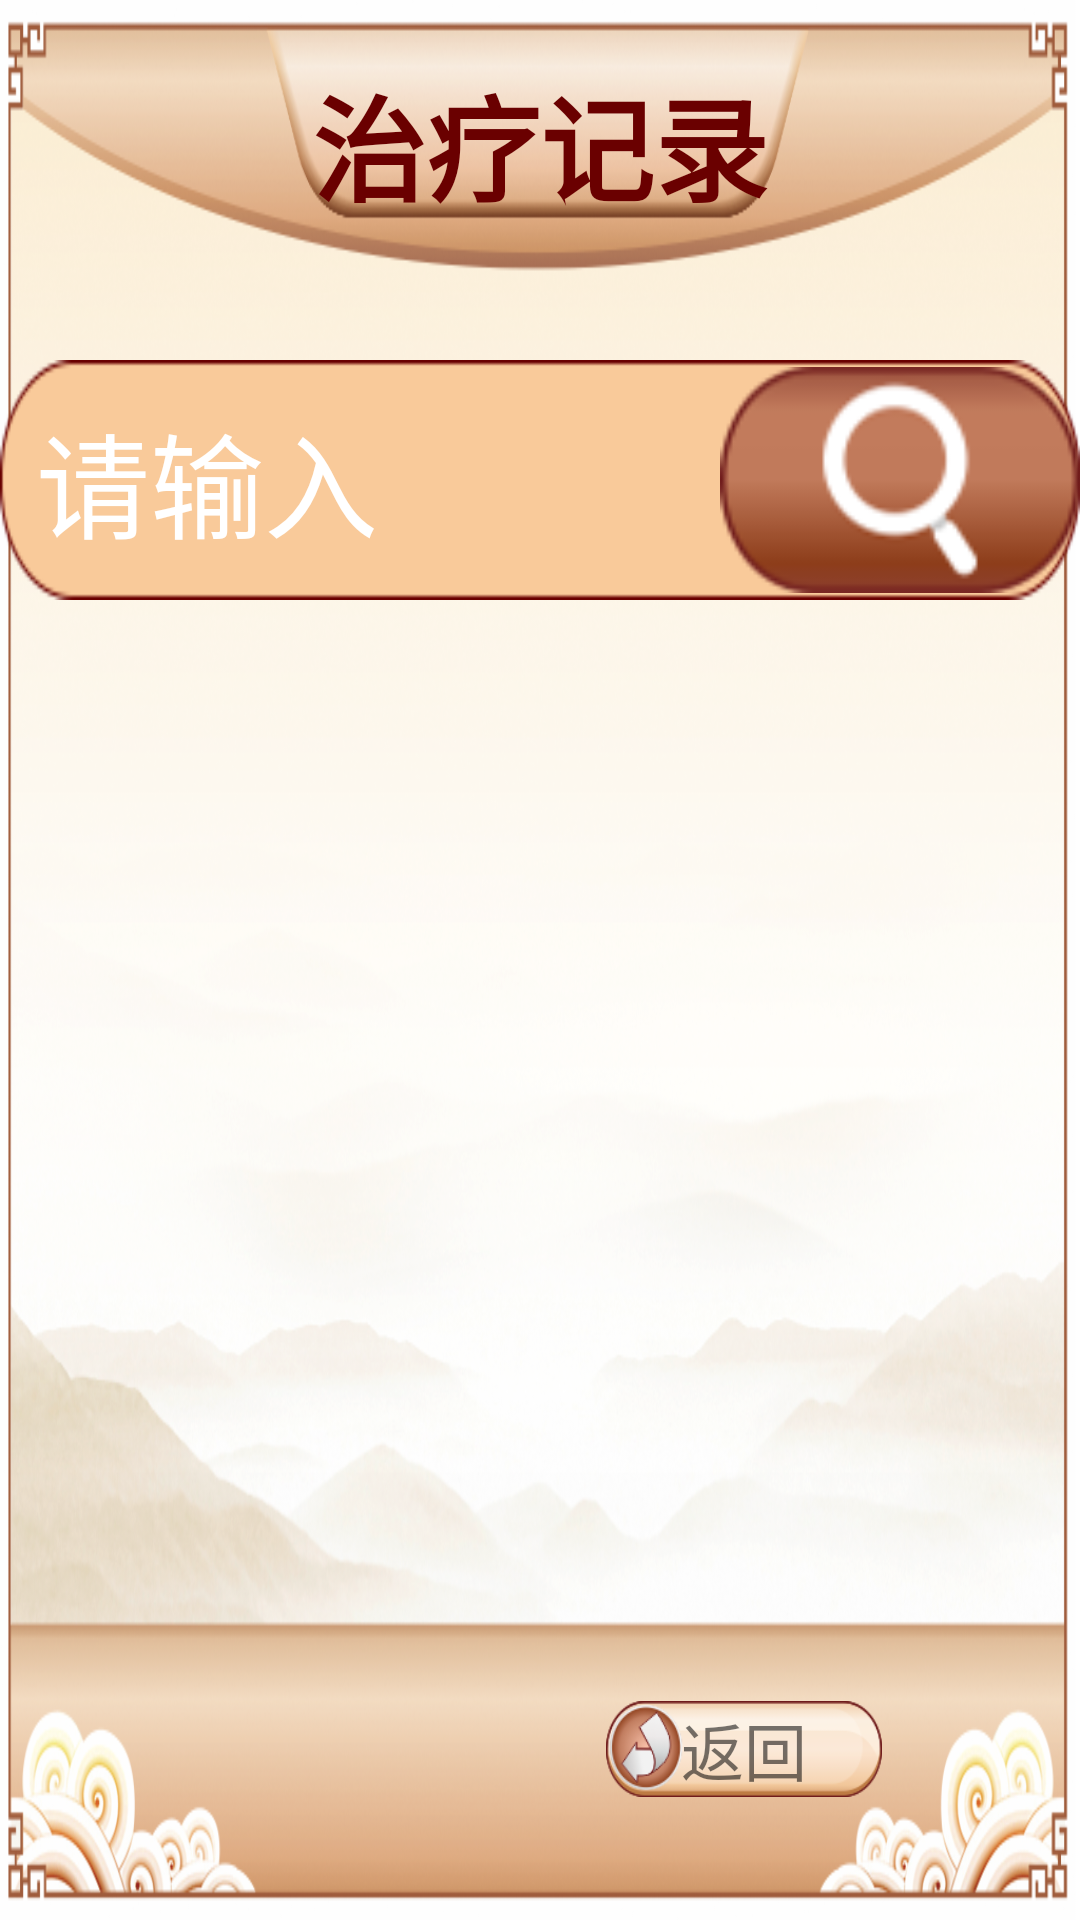

Screen size 1080 x 1920. Icon name, then its center in pixels as (x,y):
search: (900,480)
